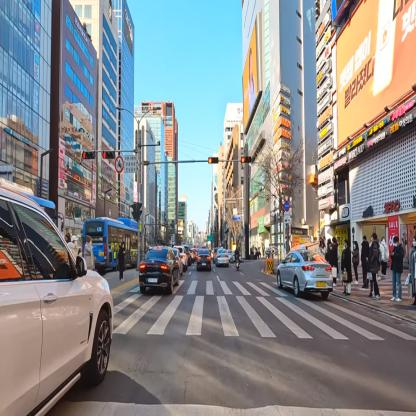red: (82, 149, 96, 159), (103, 150, 117, 159), (207, 156, 220, 165), (241, 156, 252, 164)
